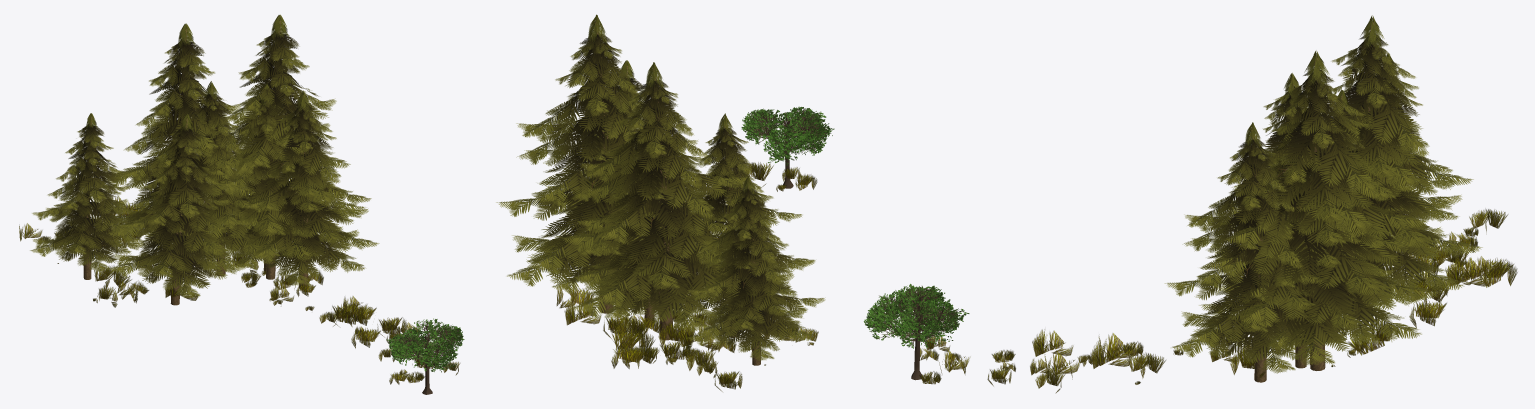
3 renders of one model, left to right at view 1: azimuth 30°, elevation 25°; view 2: azimuth 150°, elevation 25°; view 3: azimuth 270°, elevation 25°, orthographic. The views are drawn at different scales.
Visible parts, largest first — view 1: Low Poly Stylized 2D Grass.1702; view 2: Low Poly Stylized 2D Grass.1702; view 3: Low Poly Stylized 2D Grass.1702.
Boxes of the visible parts, x1,y1,x2,y2 form: Low Poly Stylized 2D Grass.1702: (19,14,464,394); Low Poly Stylized 2D Grass.1702: (496,14,834,391); Low Poly Stylized 2D Grass.1702: (863,15,1517,393).
Size of the model in its own units: 17.61 by 14.77 by 26.37.
5 materials, 4 textured.
